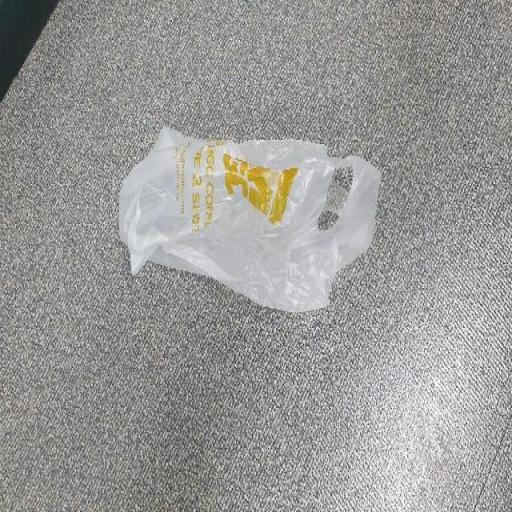plastic-bag: (118, 124, 384, 314)
